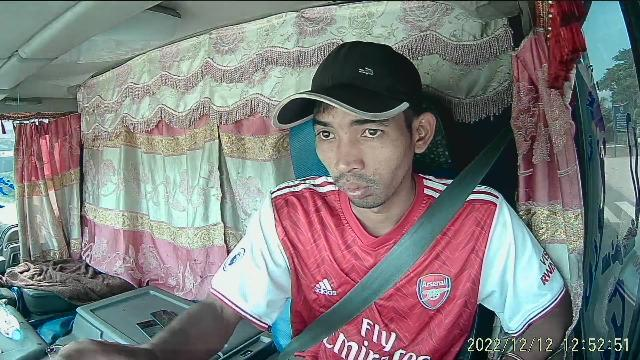SafeDriving: (353, 119, 390, 144), (311, 121, 340, 144)
Seatbelt: (288, 164, 494, 360)
